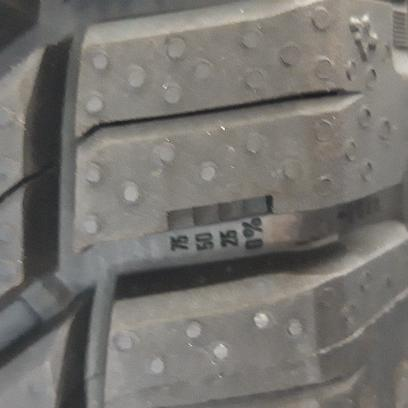temoin:100: (142, 193, 280, 239)
